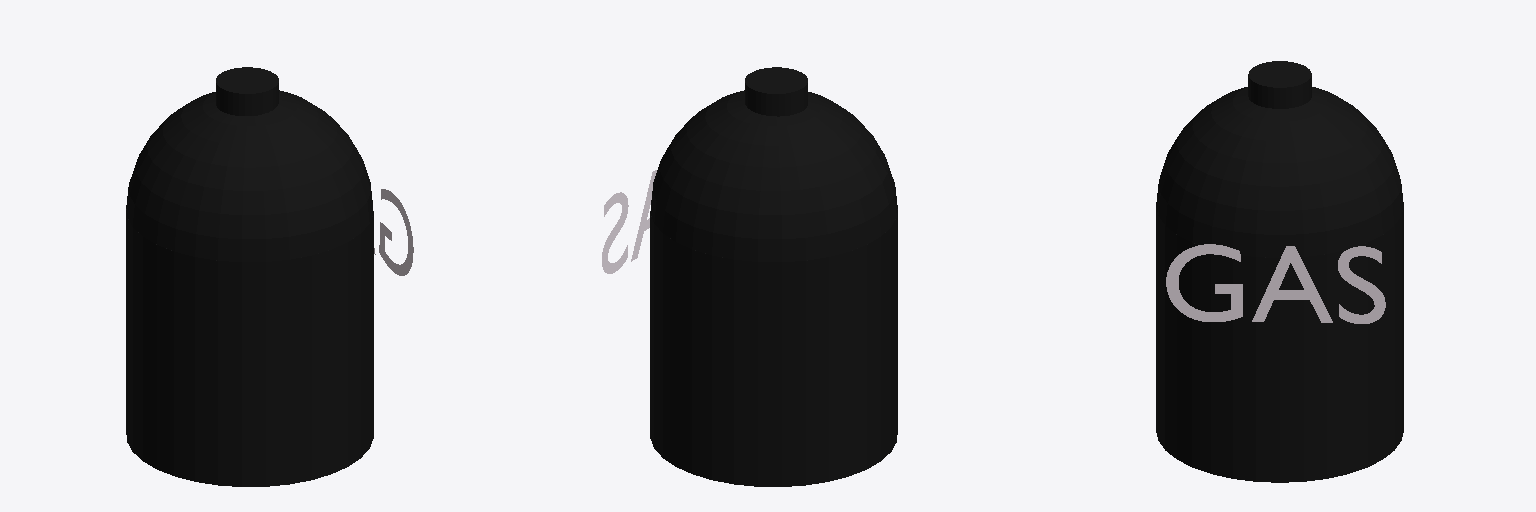
File: food.obj
3 views of the same model, side by side, from view 1: azimuth 30°, elevation 25°; view 2: azimuth 150°, elevation 25°; view 3: azimuth 270°, elevation 25° (orthographic).
Visible parts, largest first — view 1: Cylinder, Sphere, Cylinder.001, Text_Text.002; view 2: Cylinder, Sphere, Cylinder.001, Text_Text.002; view 3: Cylinder, Sphere, Text_Text.002, Cylinder.001.
Boxes of the visible parts, box(x1,y1,x2,y2) form: Cylinder: box(126, 209, 373, 486); Sphere: box(126, 90, 373, 261); Cylinder.001: box(216, 67, 278, 115); Text_Text.002: box(374, 189, 413, 275); Cylinder: box(650, 209, 897, 486); Sphere: box(650, 90, 897, 261); Cylinder.001: box(745, 67, 807, 116); Text_Text.002: box(602, 170, 656, 273); Cylinder: box(1156, 208, 1403, 482); Sphere: box(1156, 87, 1403, 257); Text_Text.002: box(1166, 244, 1385, 323); Cylinder.001: box(1248, 61, 1311, 108).
Bounding box in the file's own units: 2.12 × 3.18 × 2.01.